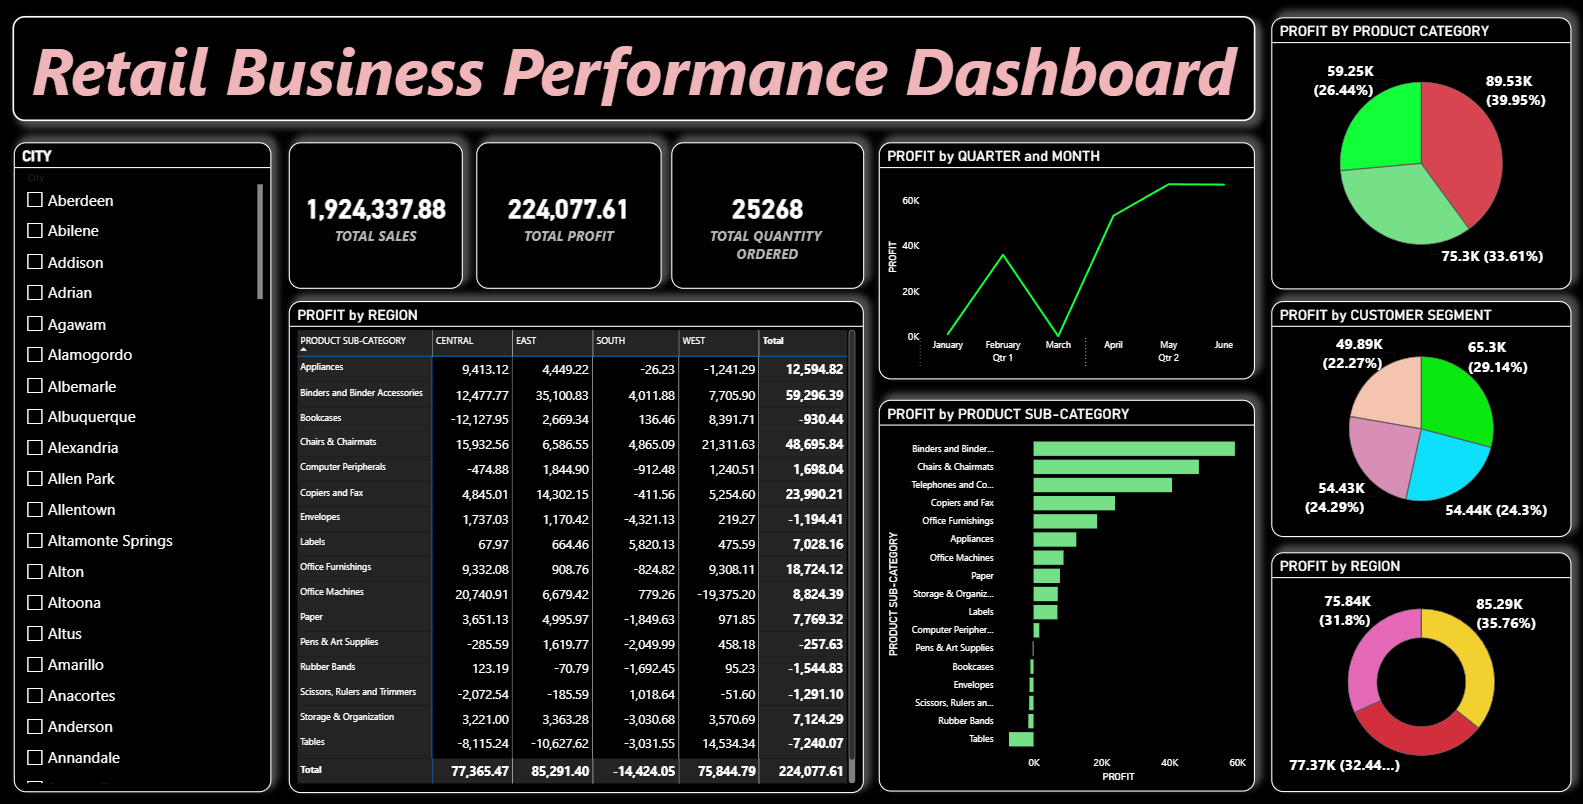

What the dashboard file says about the page in this screenshot:
{"tool":"powerbi","page":{"name":"Page 1","canvas":[2350,1200],"ordinal":0},"visuals":[{"type":"card","fields":{"Values":["Sum(Orders.Sales)"]},"box":[429.1,217.8,258.3,217.8],"z":0},{"type":"card","fields":{"Values":["Sum(Orders.Profit)"]},"box":[706.6,217.8,275.4,217.8],"z":1000},{"type":"card","fields":{"Values":["Sum(Orders.Quantity ordered new)"]},"box":[997,217.8,286.1,217.8],"z":2000},{"type":"slicer","title":"CITY","fields":{"Values":["Orders.City"]},"box":[20,217.5,382.5,965],"z":3000},{"type":"pivotTable","title":"PROFIT by REGION","fields":{"Rows":["Orders.Product Sub-Category"],"Columns":["Orders.Region"],"Values":["Sum(Orders.Profit)"]},"box":[429.1,452.6,853.9,730.1],"z":4000},{"type":"lineChart","title":"PROFIT by QUARTER and MONTH","fields":{"Y":["Sum(Orders.Profit)"],"Category":["Orders.Order Date.Variation.Date Hierarchy.Quarter","Orders.Order Date.Variation.Date Hierarchy.Month"]},"box":[1304.2,216.7,558.3,352.1],"z":5000},{"type":"barChart","title":"PROFIT by PRODUCT SUB-CATEGORY","fields":{"Y":["Sum(Orders.Profit)"],"Category":["Orders.Product Sub-Category"]},"box":[1304.2,600,558.3,581.2],"z":6000},{"type":"pieChart","title":"PROFIT BY PRODUCT CATEGORY","fields":{"Y":["Sum(Orders.Profit)"],"Category":["Orders.Product Category"]},"box":[1887.5,31.2,445.8,404.2],"z":7000},{"type":"pieChart","title":"PROFIT by CUSTOMER SEGMENT","fields":{"Y":["Sum(Orders.Profit)"],"Category":["Orders.Customer Segment"]},"box":[1887.5,452.1,445.8,350],"z":8000},{"type":"donutChart","title":"PROFIT by REGION","fields":{"Y":["Sum(Orders.Profit)"],"Category":["Orders.Region"]},"box":[1887.5,825,445.8,356.2],"z":9000},{"type":"textbox","box":[19.2,29.9,1844.5,155.8],"z":10000}]}

Visuals, with their boxes in screenshot pixels (x1, y1, x2, y2), scaled from the page's 2350x1200 canvas onto the 1583x804 screenshot:
card - Sum(Orders.Sales): box=[289, 146, 463, 292]
card - Sum(Orders.Profit): box=[476, 146, 661, 292]
card - Sum(Orders.Quantity ordered new): box=[672, 146, 864, 292]
"CITY" slicer: box=[13, 146, 271, 792]
"PROFIT by REGION" pivotTable: box=[289, 303, 864, 792]
"PROFIT by QUARTER and MONTH" lineChart: box=[879, 145, 1255, 381]
"PROFIT by PRODUCT SUB-CATEGORY" barChart: box=[879, 402, 1255, 791]
"PROFIT BY PRODUCT CATEGORY" pieChart: box=[1271, 21, 1572, 292]
"PROFIT by CUSTOMER SEGMENT" pieChart: box=[1271, 303, 1572, 537]
"PROFIT by REGION" donutChart: box=[1271, 553, 1572, 791]
textbox: box=[13, 20, 1255, 124]
